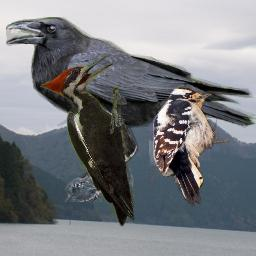Crow: (6, 17, 256, 202)
Woodpecker: (40, 54, 134, 227), (149, 85, 230, 207)
